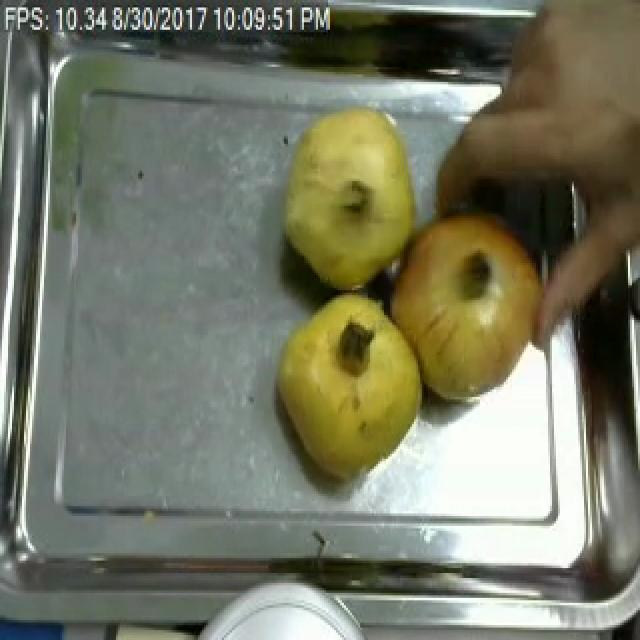fruit: (382, 196, 556, 409), (268, 285, 432, 491), (270, 94, 428, 303)
